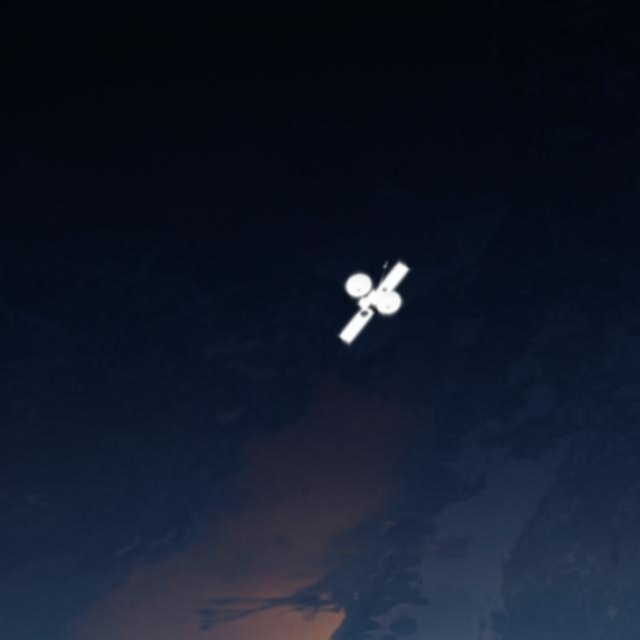satellite: (327, 245, 420, 354)
